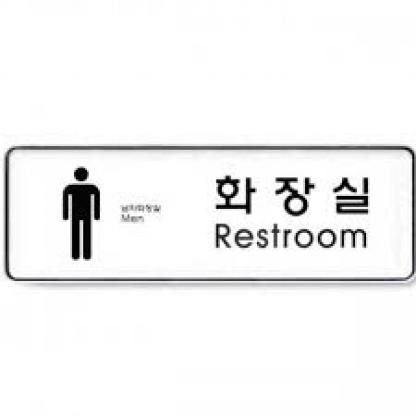toilet: (63, 166, 103, 262)
